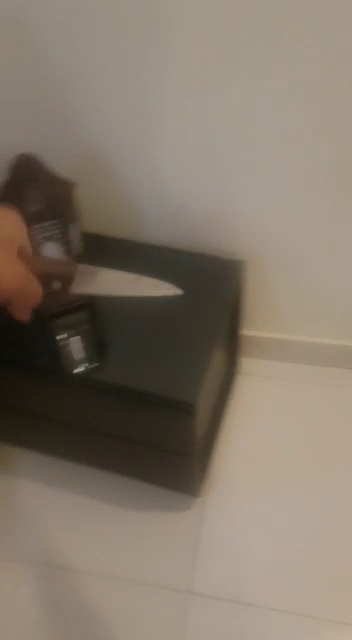knife: (22, 219, 198, 347)
